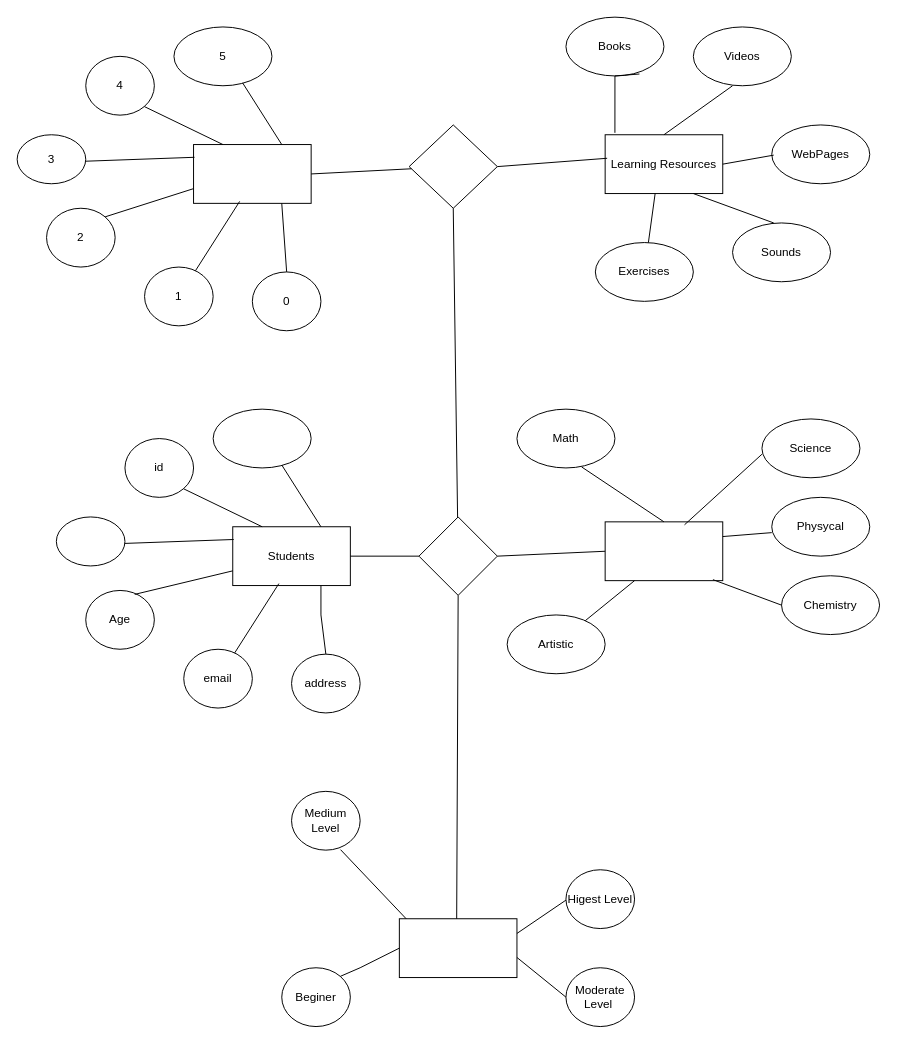
This 897x1044 diagram has some shape labels left out. Here are the shapes that lost their labels. From the top down, the box of each, then its label:
(193, 144, 311, 203): Qualifications Notes
(408, 124, 497, 208): School Notes
(212, 408, 311, 468): phone number
(55, 516, 125, 566): Name
(418, 516, 497, 595): generals
(604, 521, 723, 581): Courses
(398, 918, 517, 978): Users Profiles
